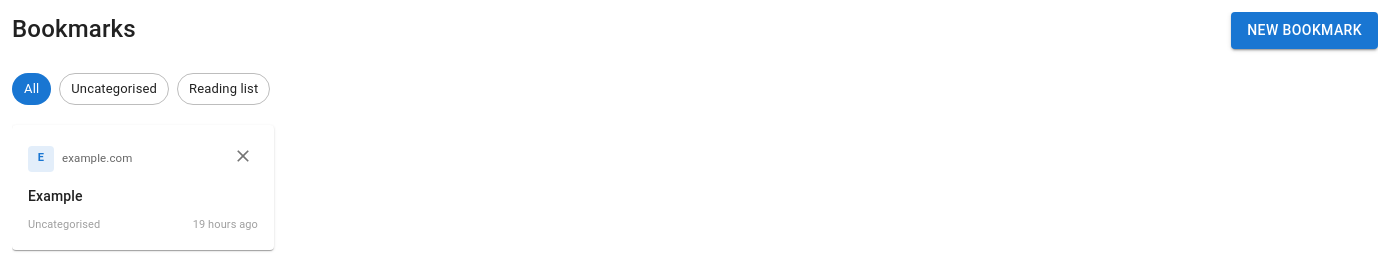
Test: BookmarksPage › shows an error when delete fails, after rolling back the optimistic removal
The image size is (1390, 269).
Expected: the heading "Example" is shown, x1=28 y1=188 x2=83 y2=204
What coordinates should you click on to do the following:
click the button named "Delete Example"
I would click on:
 (243, 158)
Its box is x1=228 y1=140 x2=258 y2=176.
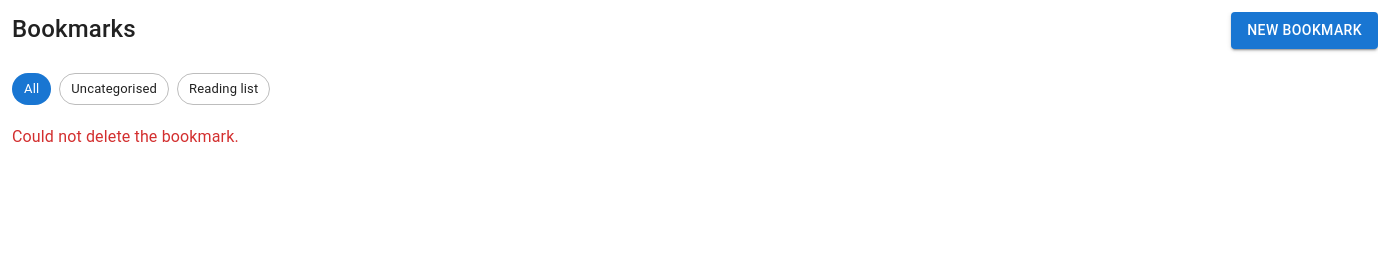
Expected: the text "Could not delete the bookmark." is shown, x1=12 y1=126 x2=239 y2=146
